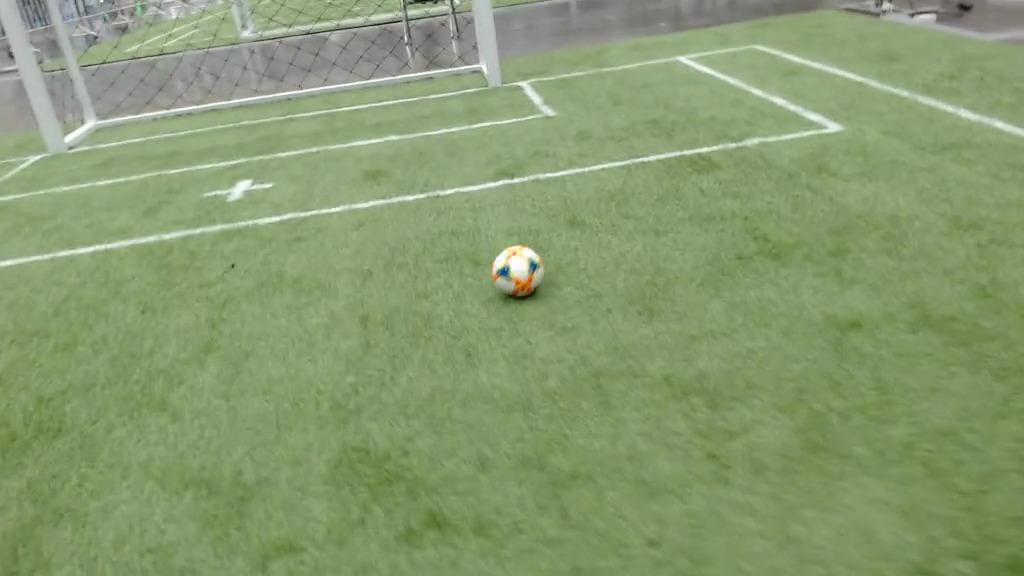ball: (492, 244, 542, 299)
